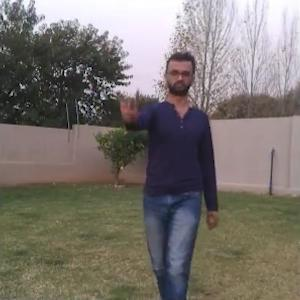takeoff-hand: (114, 81, 142, 121)
